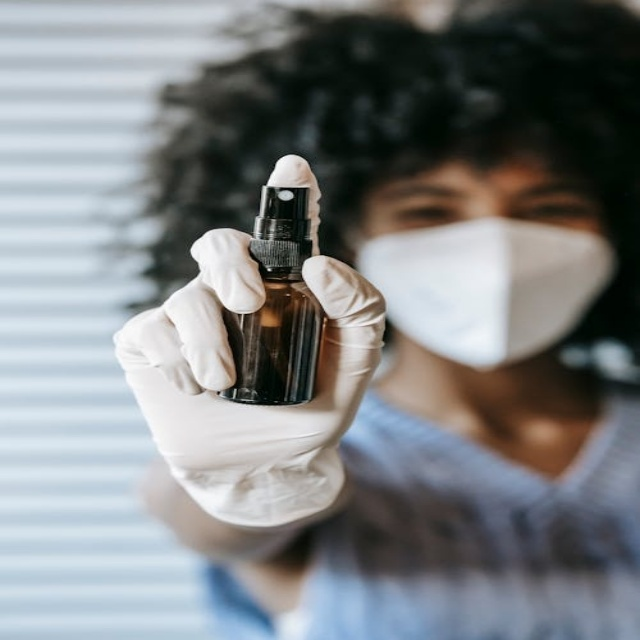Guantes: (111, 153, 388, 527)
Mascara: (352, 215, 618, 371)
Sin_gafas: (369, 183, 600, 235)
